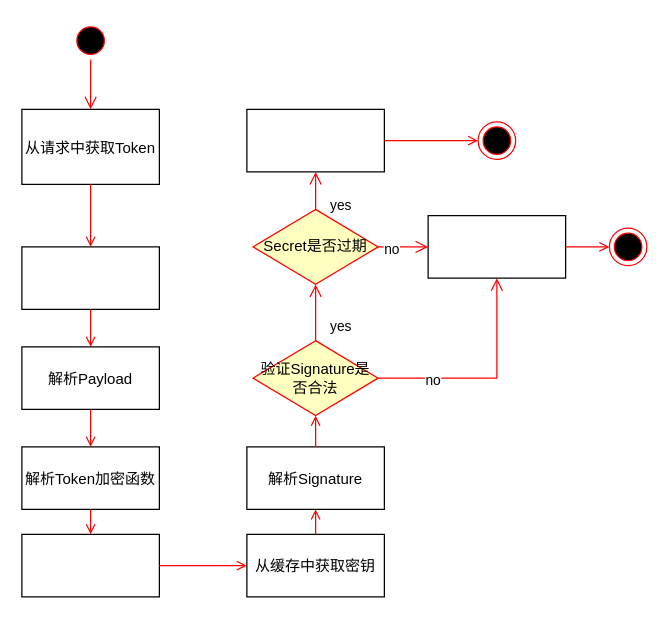
Image size: 669x619. Some labels were removed from this diagram. Here are the shapes that lost their labels. From the top down, the centre of each, then its label:
(x=315, y=140): 设置Header
(x=496, y=246): 返回错误结果
(x=90, y=277): 解析Header
(x=90, y=565): 获取密钥ID
